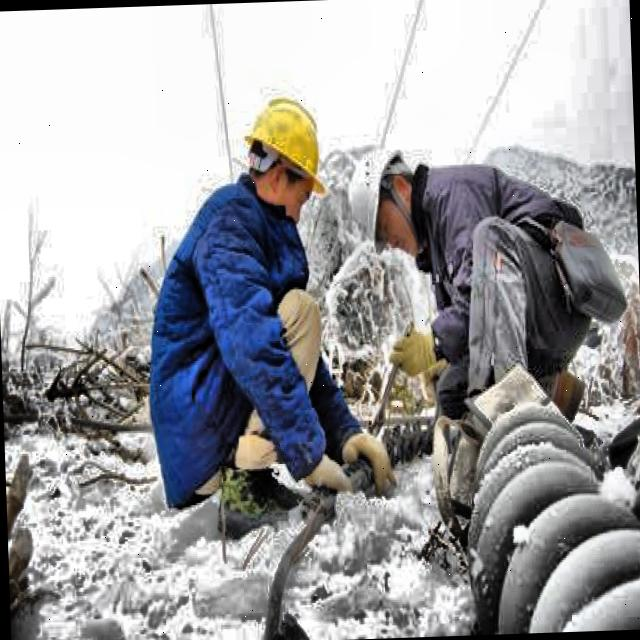helmet: (235, 78, 335, 227), (344, 136, 422, 262)
